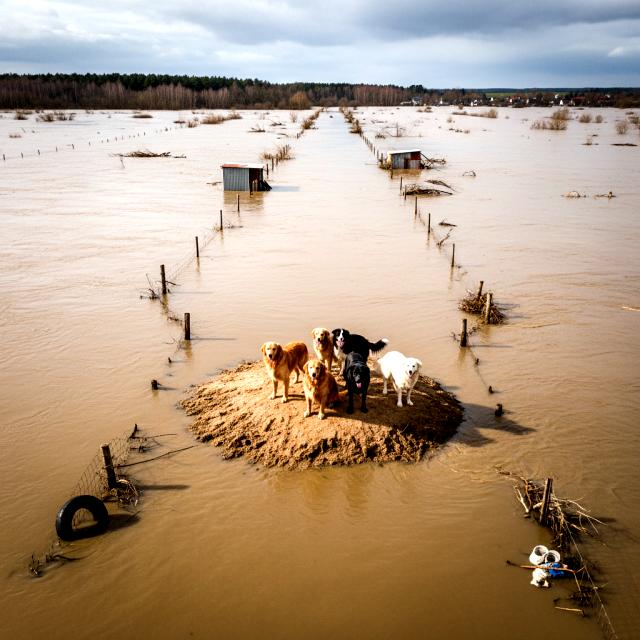dog: (256, 333, 314, 405), (378, 344, 428, 412), (302, 351, 344, 425), (336, 351, 376, 417), (330, 326, 388, 362), (306, 326, 338, 365)
